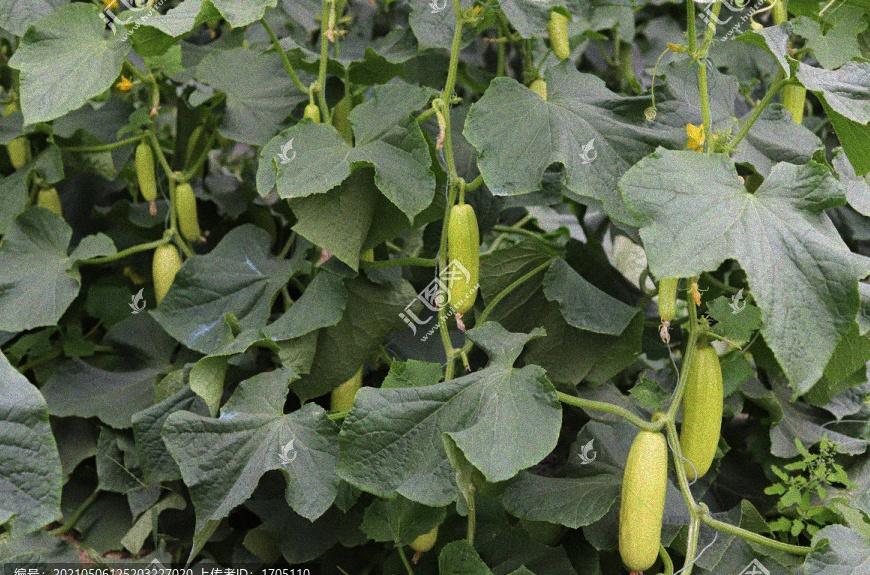cucumber_plant: (636, 115, 852, 390), (178, 378, 554, 521), (18, 1, 176, 130)
